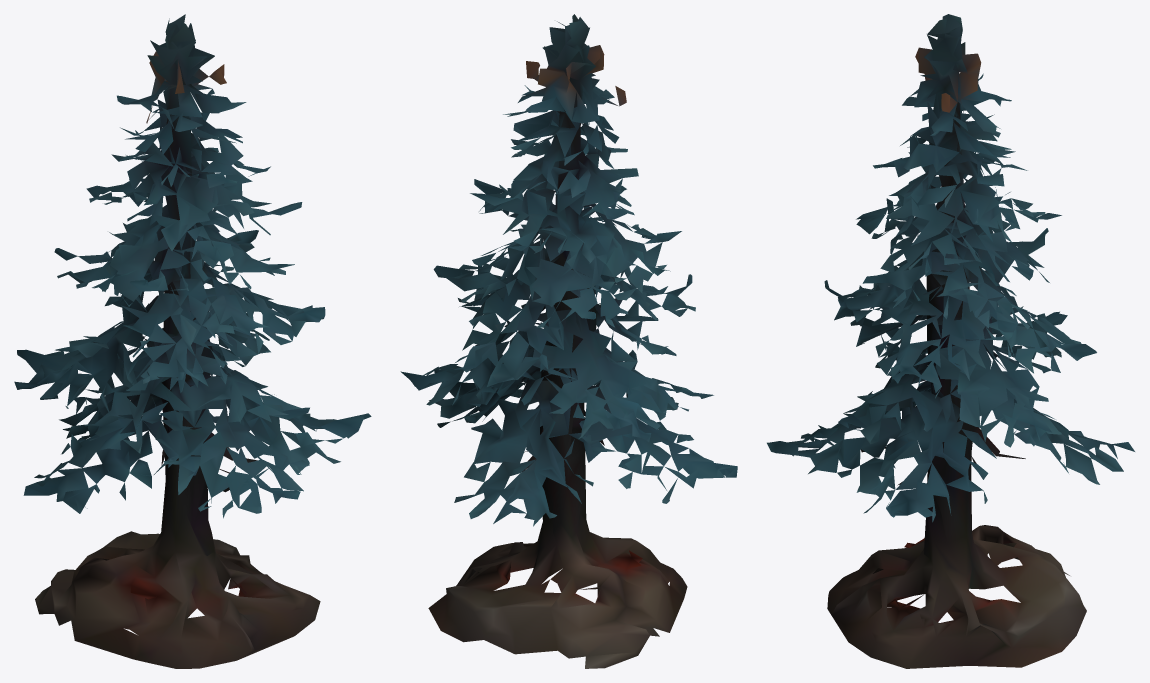
Rendered from nature_tree_fir.glb.
3 renders of one model, left to right at view 1: azimuth 30°, elevation 25°; view 2: azimuth 150°, elevation 25°; view 3: azimuth 270°, elevation 25°, orthographic.
Parts seen in each view (by area): view 1: world; view 2: world; view 3: world.
Boxes of the visible parts, x1,y1,x2,y2 form: world: [14, 14, 371, 668]; world: [400, 14, 737, 668]; world: [767, 14, 1134, 668].
Size of the model in its own units: 8.35 by 14.67 by 8.23.
